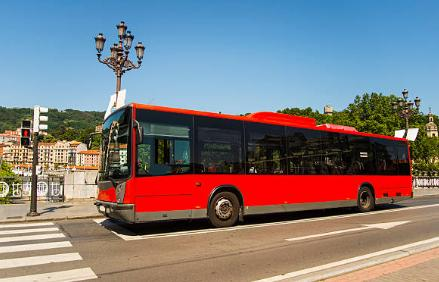vehicle: (87, 103, 413, 227)
